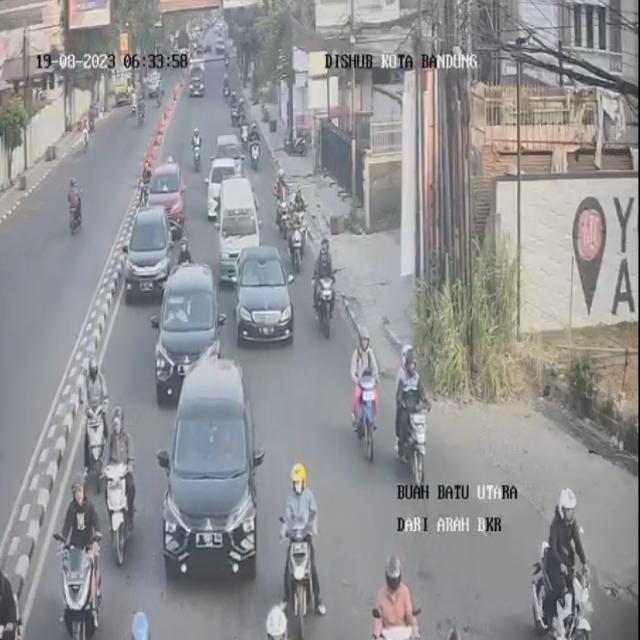cars: (163, 356, 265, 578), (150, 263, 222, 407), (240, 243, 297, 348), (125, 202, 177, 294), (220, 175, 262, 278), (205, 155, 244, 221), (150, 157, 187, 225)
motorcycle: (526, 481, 594, 640), (57, 478, 102, 640), (280, 454, 320, 630), (360, 537, 422, 639), (99, 410, 134, 562), (391, 346, 429, 481), (349, 324, 384, 462), (82, 354, 109, 468), (249, 601, 303, 640), (312, 243, 335, 333), (115, 605, 168, 640), (0, 553, 20, 636), (290, 187, 308, 260), (274, 165, 292, 233), (249, 121, 264, 171), (188, 122, 202, 170), (230, 89, 245, 131)
